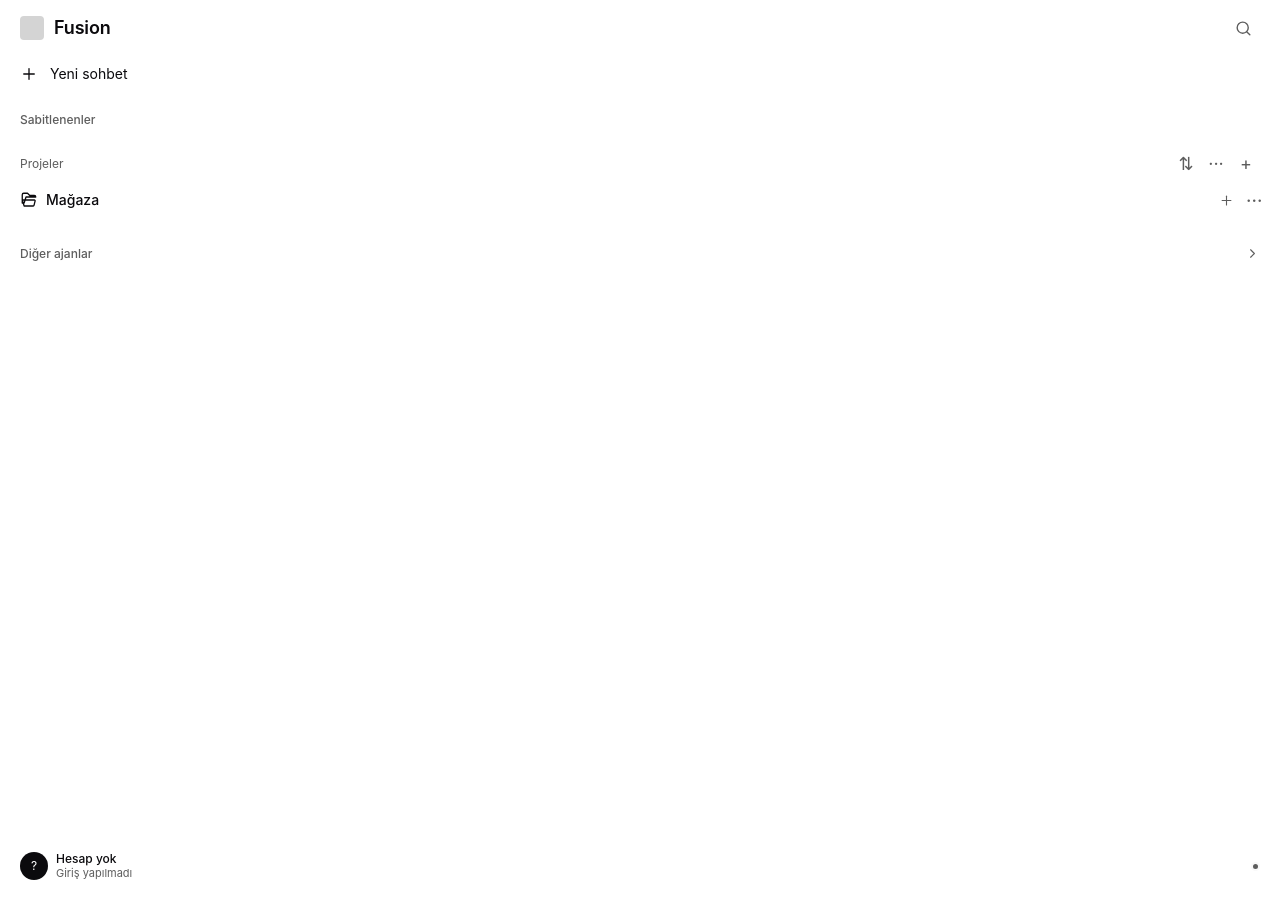
Sidebar — dalga 4 P2/P3 › silme/yeniden adlandırma geri çağırımı yoksa diyalog sessizce kapanmaz (U1-56)
Click the button named "Mağaza için proje seçeneklerini aç": (1254,200) [1240,186,1268,214]
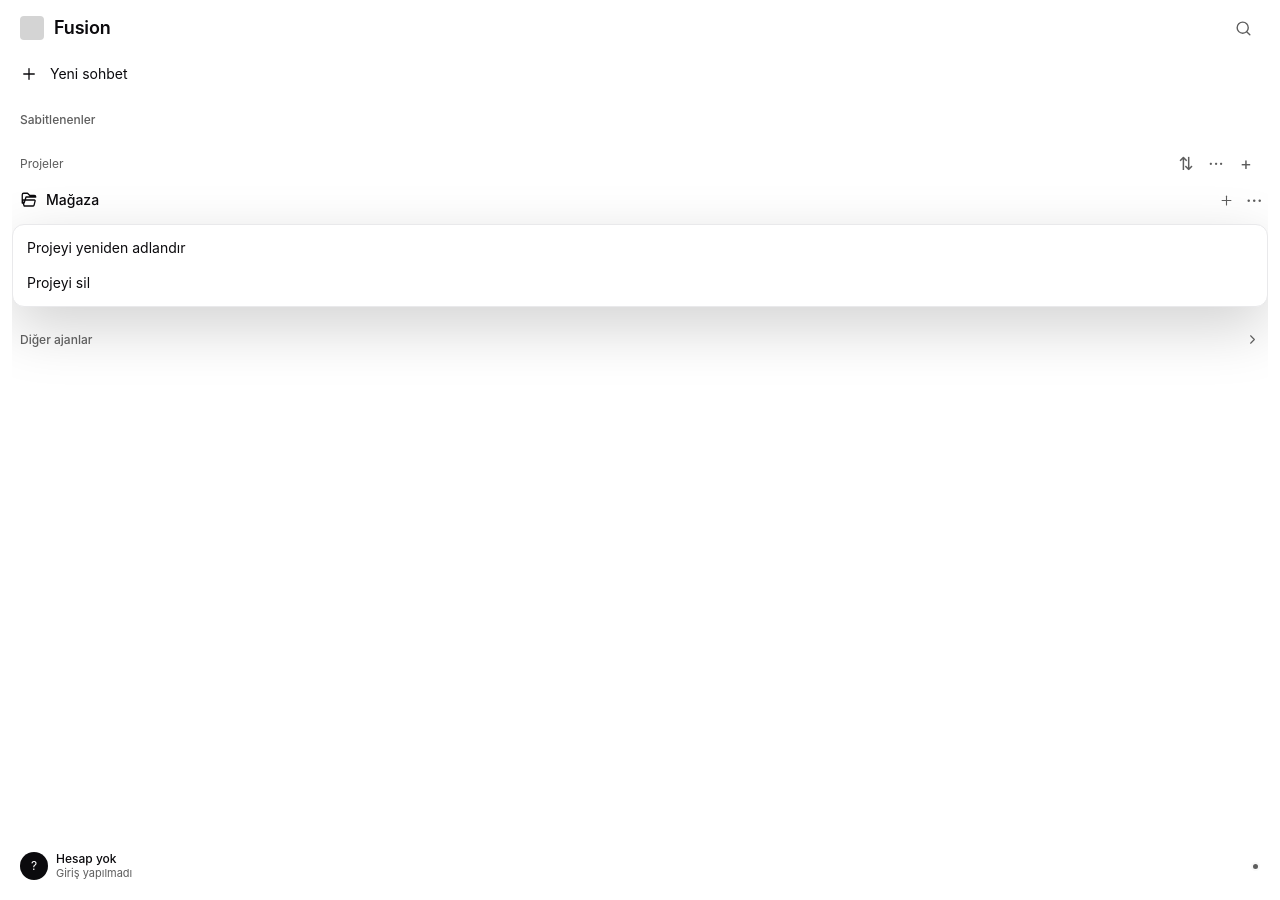
Click the menu item "Projeyi sil": (59,282) [19,266,1261,300]
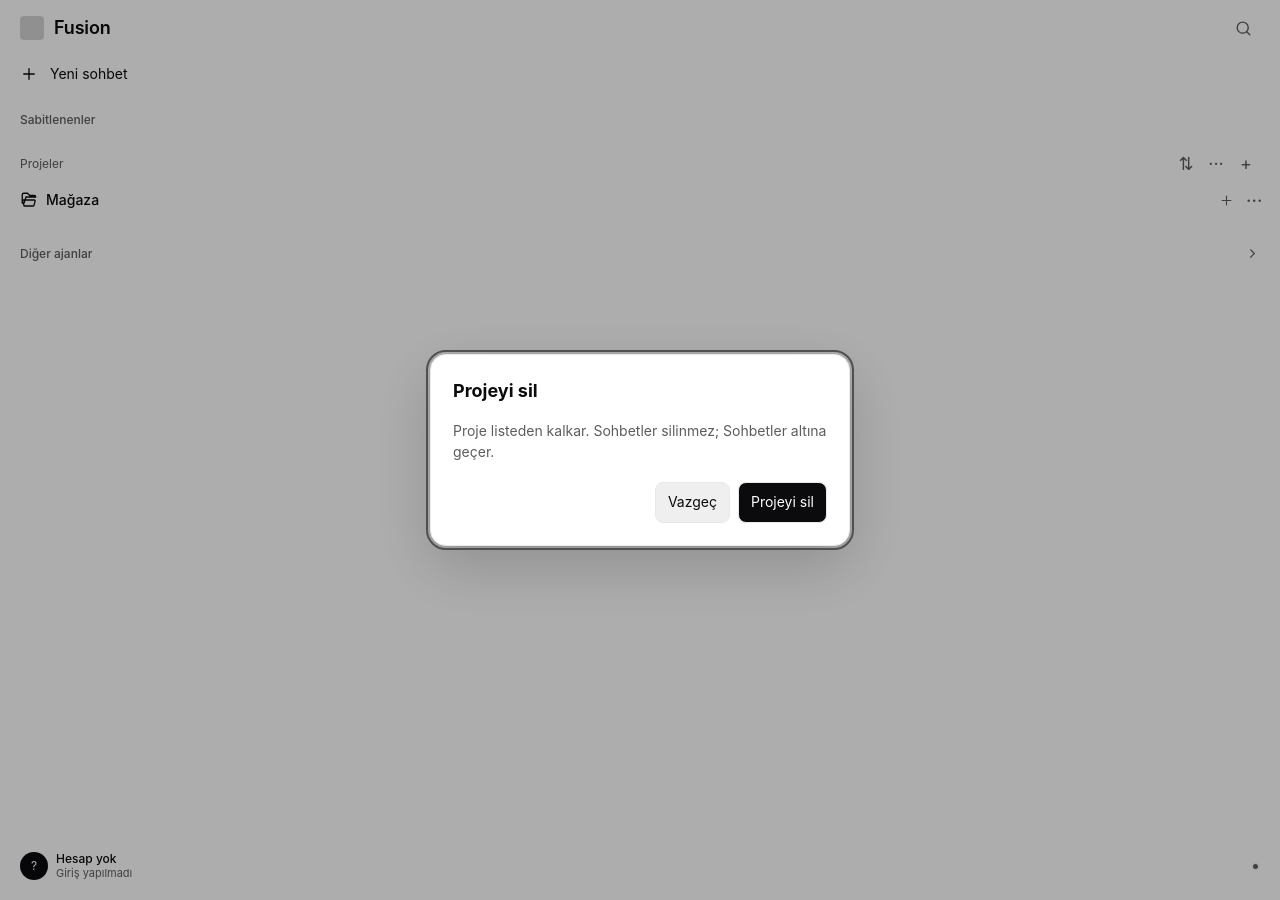
Click the button "Projeyi sil": (782,502) [738,482,827,523]
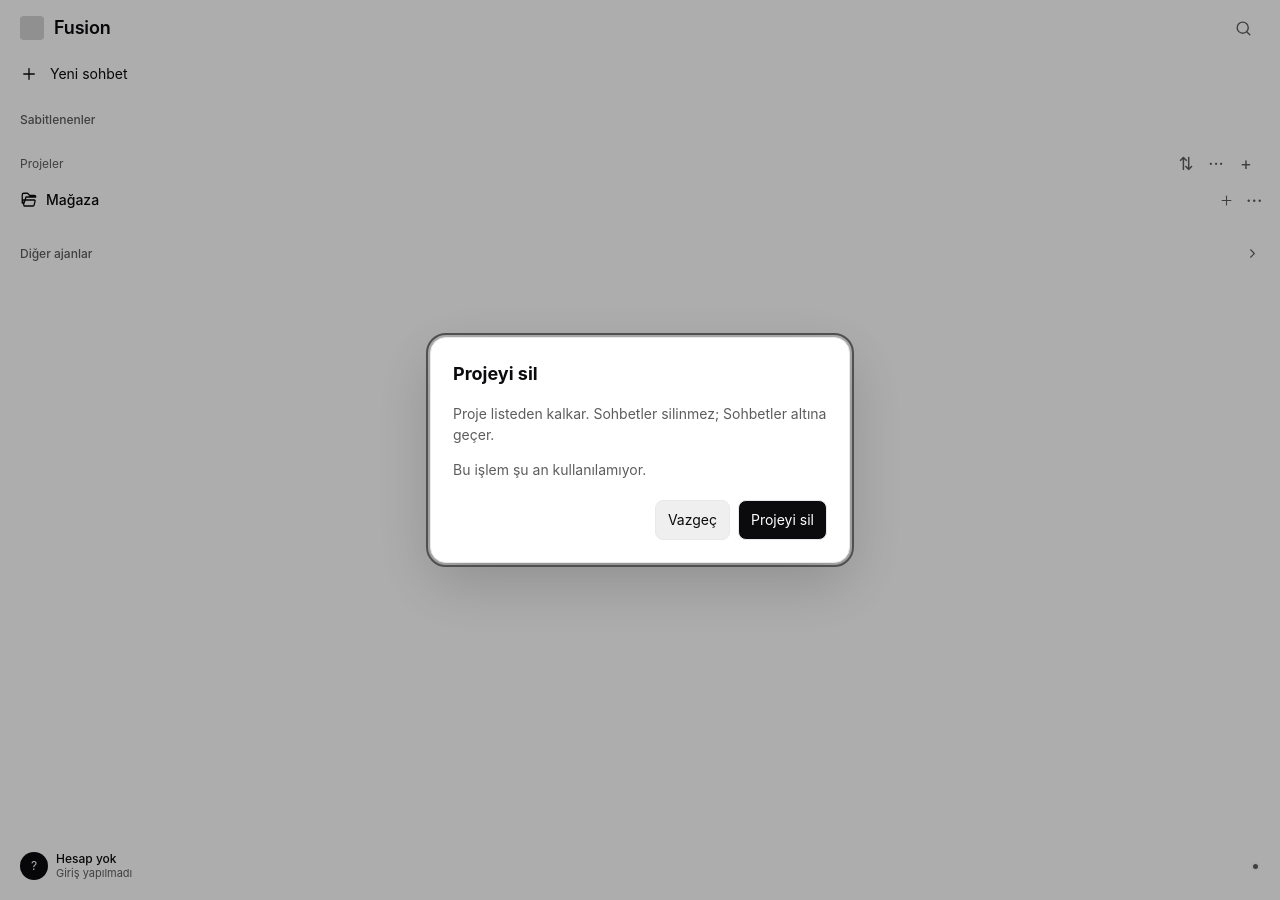
Now the dialog is shown, box [430,337,850,563]
Now the message shows "kullanılamıyor", box [453,461,646,478]
